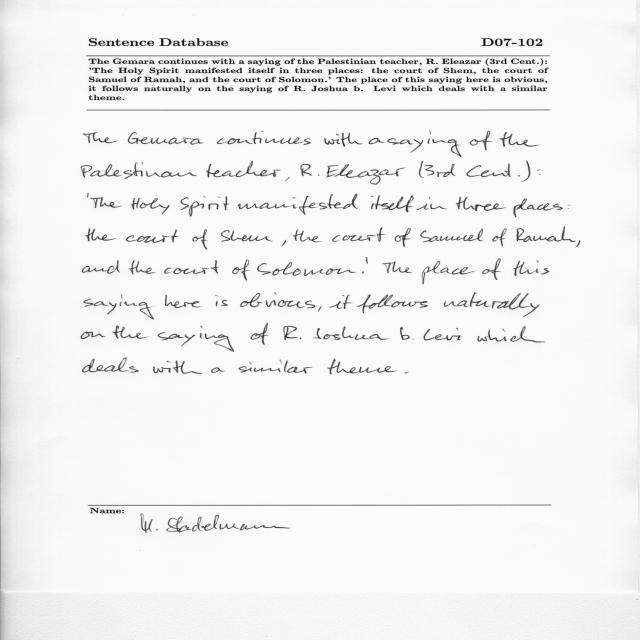word: (238, 194, 358, 215), (444, 292, 540, 317), (157, 326, 234, 352), (81, 162, 197, 179), (387, 131, 462, 157), (124, 295, 201, 320), (325, 164, 406, 185), (257, 262, 356, 276), (357, 295, 428, 314), (217, 131, 311, 145), (240, 292, 316, 309), (422, 261, 475, 284), (206, 161, 281, 177), (477, 326, 546, 342), (327, 359, 397, 374), (239, 360, 313, 374), (180, 196, 229, 217), (128, 132, 204, 145), (314, 327, 389, 340), (513, 199, 563, 218), (517, 227, 577, 242), (420, 229, 483, 243), (83, 358, 139, 373), (332, 227, 385, 242), (164, 260, 219, 274), (84, 295, 122, 315), (371, 195, 414, 212), (126, 229, 178, 243), (466, 164, 520, 177), (456, 197, 505, 211), (153, 360, 202, 374), (221, 230, 273, 242), (132, 198, 170, 214), (500, 132, 540, 147), (324, 132, 363, 147), (514, 260, 550, 276), (82, 260, 120, 274), (112, 325, 148, 339), (423, 328, 461, 340), (470, 131, 492, 150), (482, 258, 501, 280), (129, 260, 156, 275), (250, 323, 268, 345), (426, 164, 456, 177), (417, 197, 447, 210), (86, 229, 116, 242), (232, 260, 250, 281), (84, 132, 118, 143), (293, 230, 321, 243), (383, 261, 413, 273), (90, 197, 122, 208), (192, 229, 208, 250), (330, 295, 352, 309), (395, 228, 411, 247), (492, 229, 507, 247), (283, 326, 302, 340), (301, 164, 320, 176), (521, 161, 531, 182), (81, 331, 106, 339), (400, 327, 414, 340), (215, 295, 228, 306), (369, 138, 385, 144), (419, 161, 424, 178), (211, 367, 225, 373), (576, 240, 580, 248), (537, 169, 541, 175), (282, 240, 286, 246), (285, 177, 290, 181), (318, 307, 322, 312), (366, 257, 368, 264), (87, 193, 89, 198), (568, 205, 570, 209), (405, 372, 409, 374), (362, 271, 364, 274)
